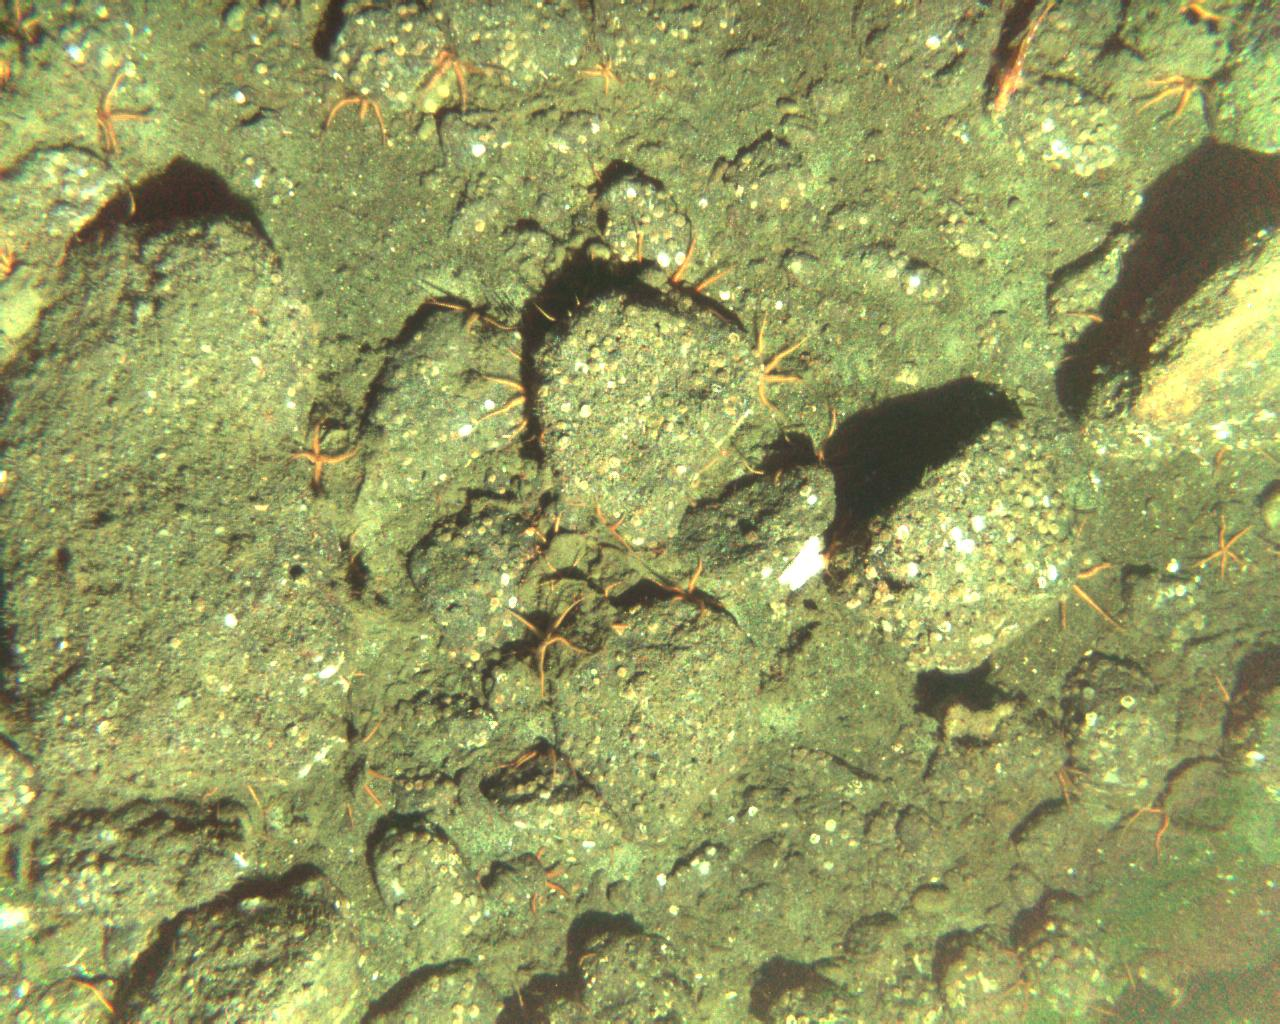fish: (992, 1, 1056, 113)
starfish: (635, 226, 736, 324), (501, 596, 594, 697), (1058, 512, 1128, 639), (751, 310, 811, 419), (478, 350, 539, 445), (285, 414, 360, 491), (95, 71, 161, 153), (344, 719, 393, 828), (1190, 512, 1255, 582), (415, 49, 486, 113), (653, 558, 722, 622), (73, 178, 137, 242), (1134, 75, 1211, 129), (1056, 312, 1130, 363), (495, 743, 578, 787), (424, 297, 519, 333), (1, 1, 42, 86), (320, 94, 386, 146), (816, 504, 861, 580), (1119, 805, 1169, 866), (777, 535, 829, 592), (529, 845, 569, 917), (1087, 962, 1135, 1017), (997, 944, 1029, 1020), (63, 974, 120, 1015), (1211, 446, 1280, 478), (594, 501, 633, 554), (1179, 1, 1248, 30), (345, 519, 374, 578), (578, 55, 620, 96), (199, 782, 263, 808), (537, 552, 584, 586), (1055, 762, 1089, 808), (518, 511, 563, 544), (1213, 676, 1250, 717), (817, 408, 841, 468), (533, 293, 581, 322), (512, 984, 531, 1024), (586, 163, 606, 197), (338, 668, 367, 690), (1, 236, 16, 277), (739, 459, 768, 476), (576, 951, 598, 970), (603, 580, 623, 599), (589, 248, 599, 280)
